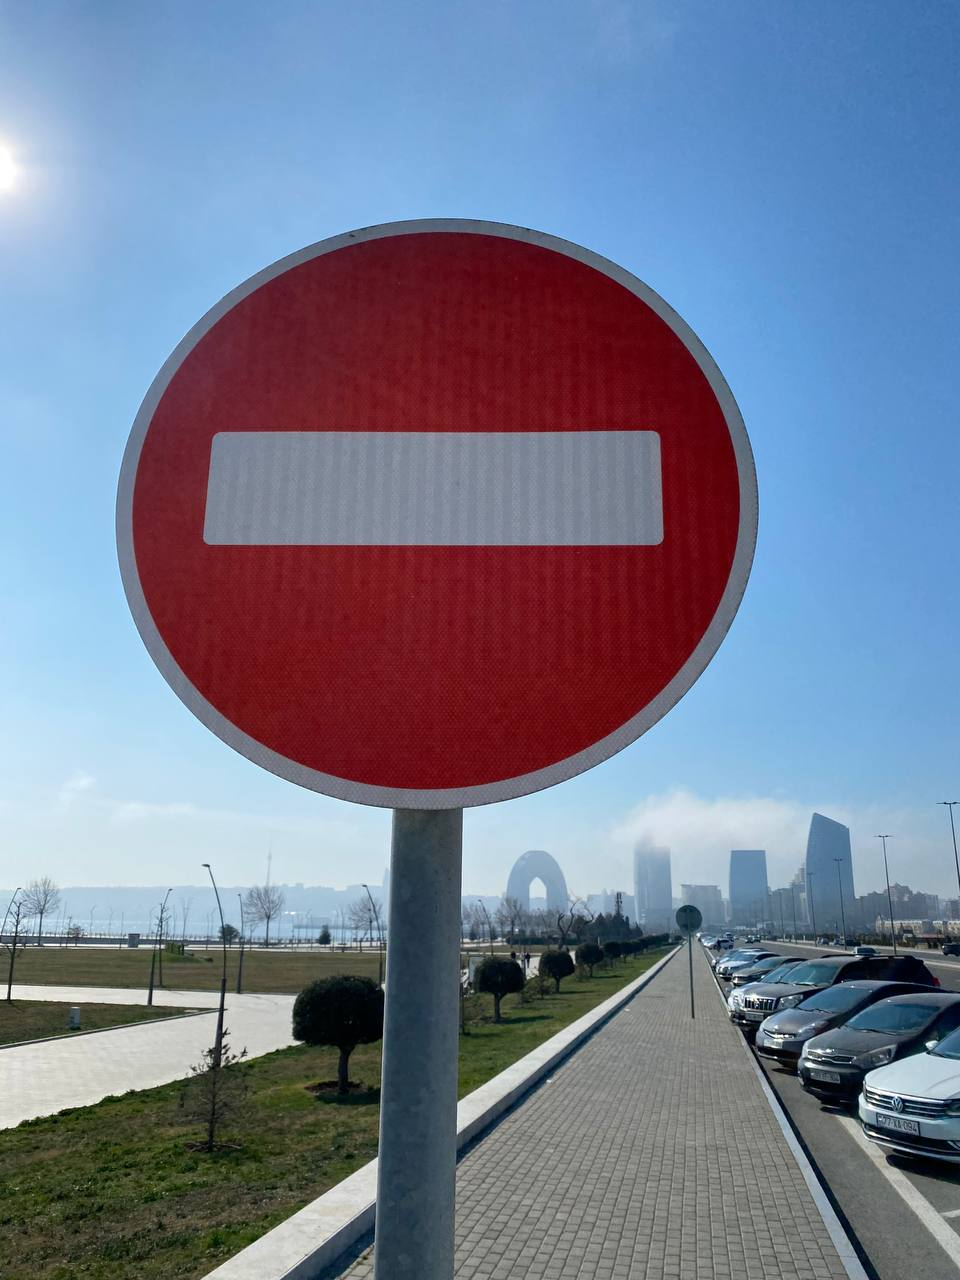No Entry: (113, 215, 762, 812)
